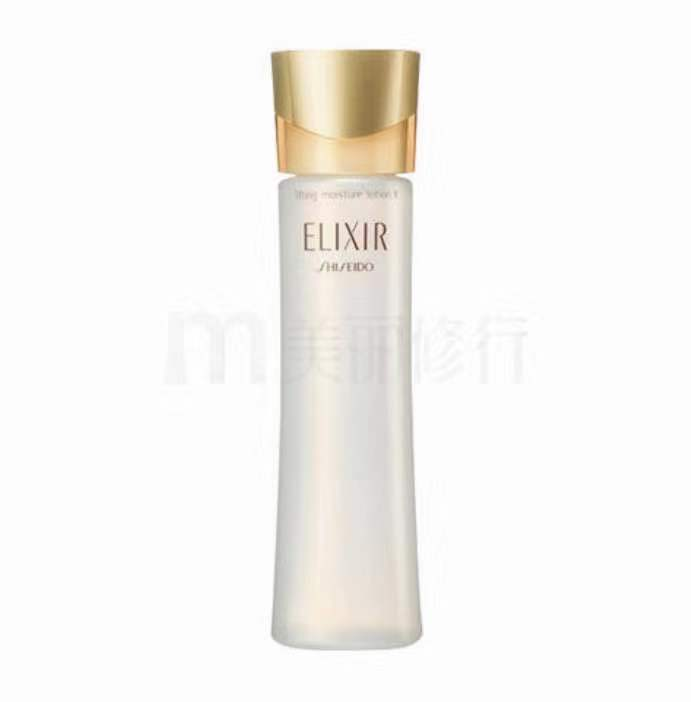cosmetic: (273, 48, 425, 648)
